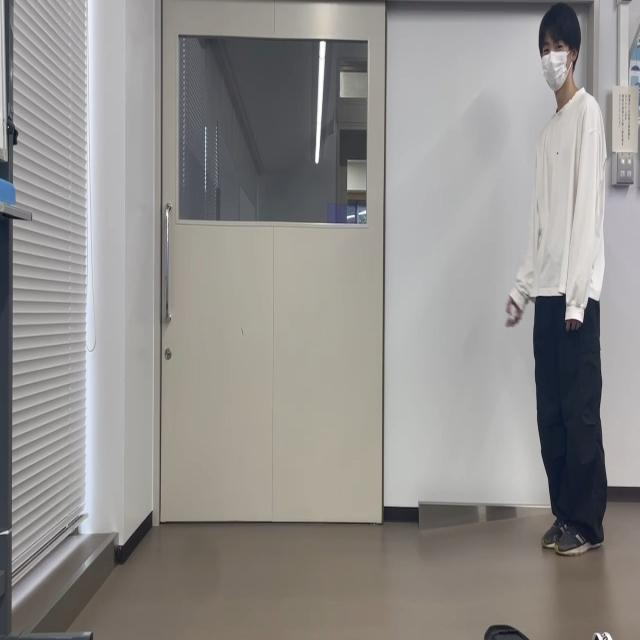paper: (503, 295, 524, 333)
